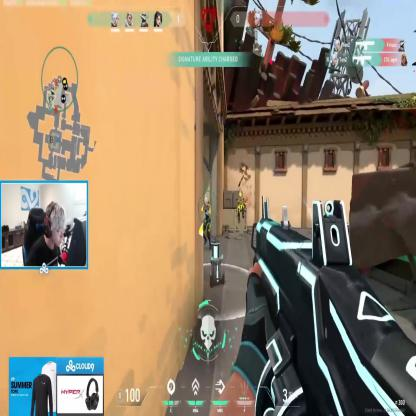enemy: (198, 192, 214, 254)
enemy_head: (204, 195, 209, 208)
